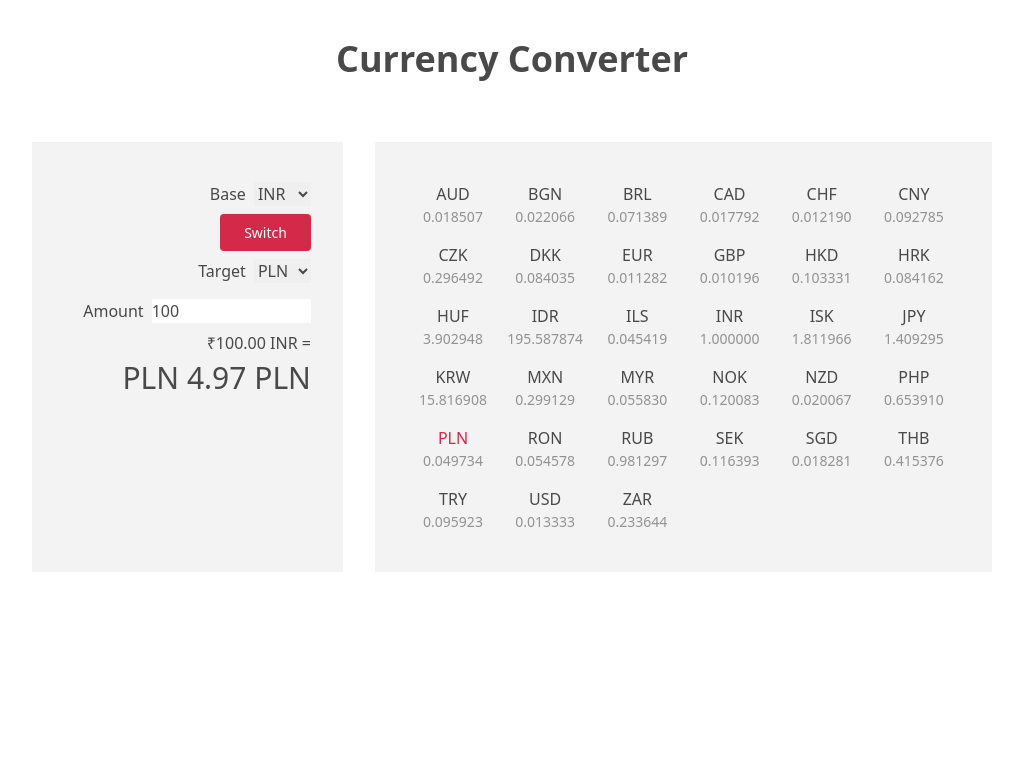
Test: Currency Converter › When the 'switch' button is pressed, the values of the base and target are swapped
Expected: the dropdown with id "baseCurrency" shows "INR", [254,182,311,206]
Expected: the dropdown with id "targetCurrency" shows "PLN", [254,259,311,283]
Click the button "Switch": (266, 233) [220,214,311,251]
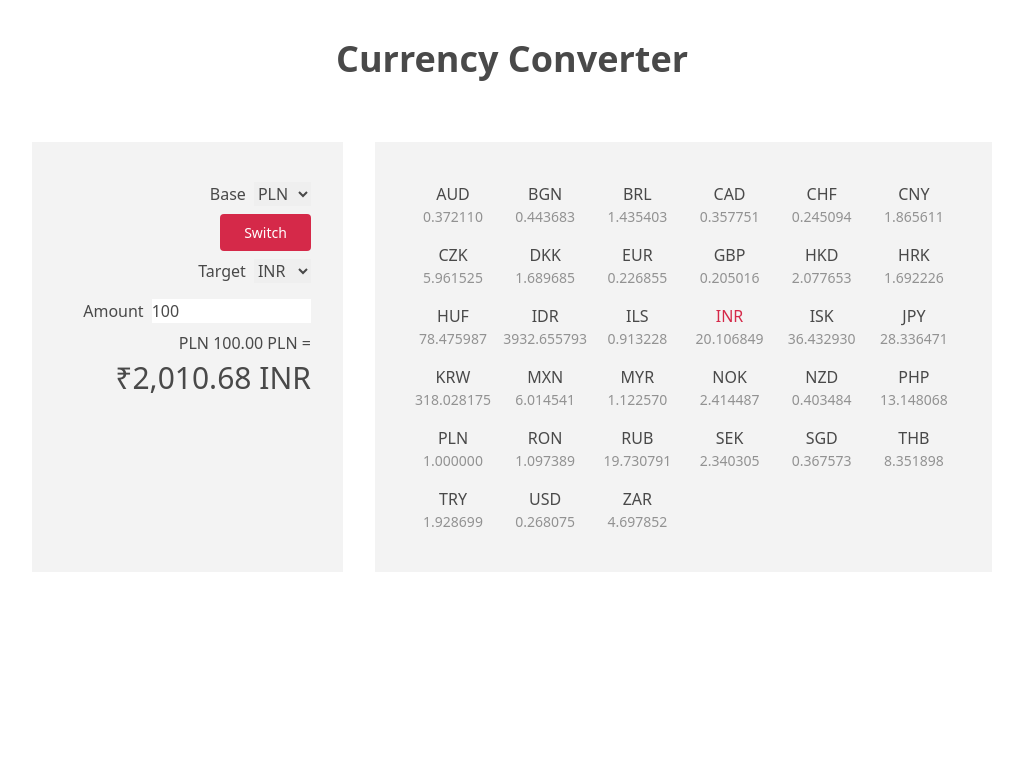
Result: the dropdown with id "baseCurrency" shows "PLN" at [254,182,311,206]
Result: the dropdown with id "targetCurrency" shows "INR" at [254,259,311,283]
Result: the text with class "currency-calculation" reads "₹2,010.68 INR" at [115,355,311,400]
